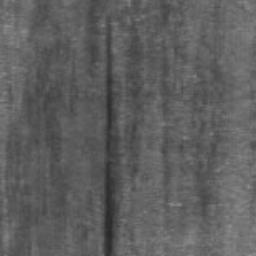Scratches: (102, 16, 115, 256)
